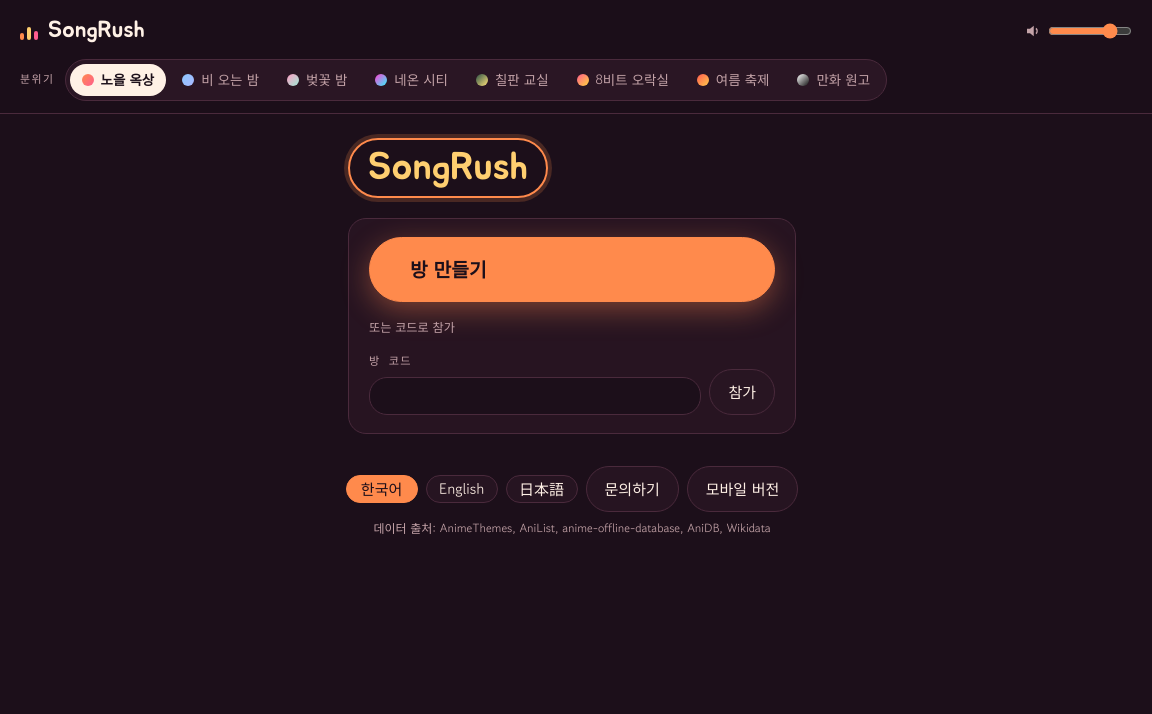
Test case: a late join in a reveal window (2) › shows the card at once, then plays the rest late with the time bar; no skip button
The image size is (1152, 714).
Type "ABCDE" into the field labelled "방 코드" at (535, 396), box [369, 377, 701, 415]
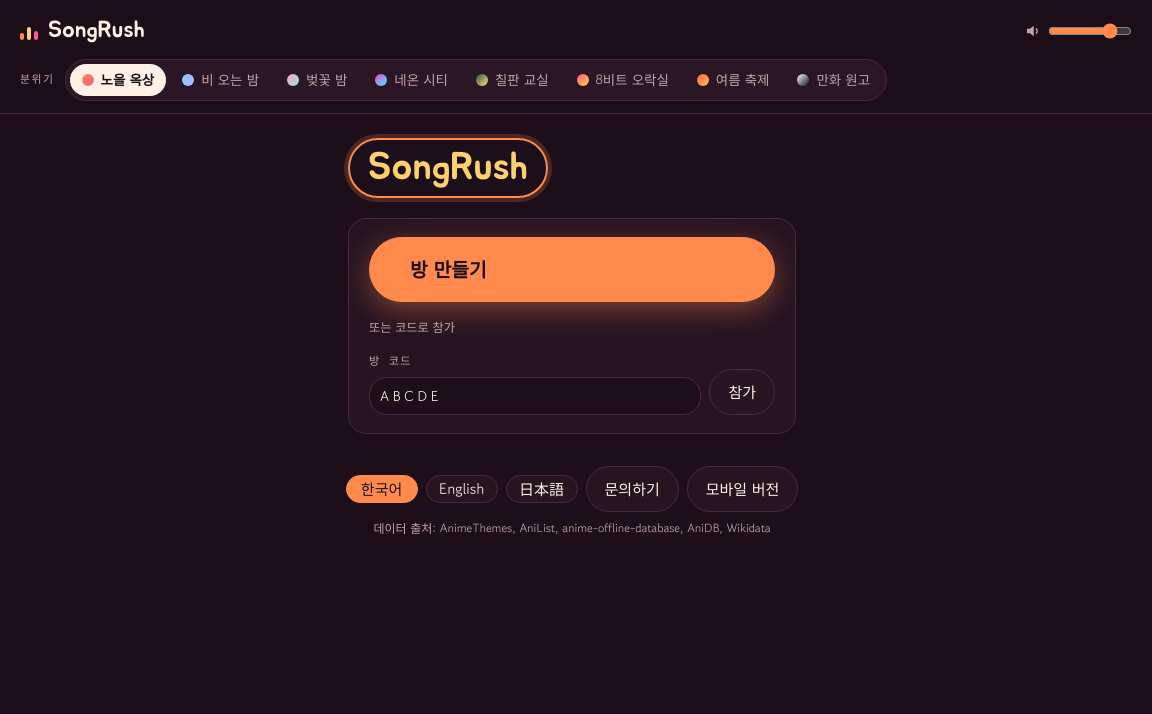
Click the button "참가" at (742, 392), box [709, 369, 775, 415]
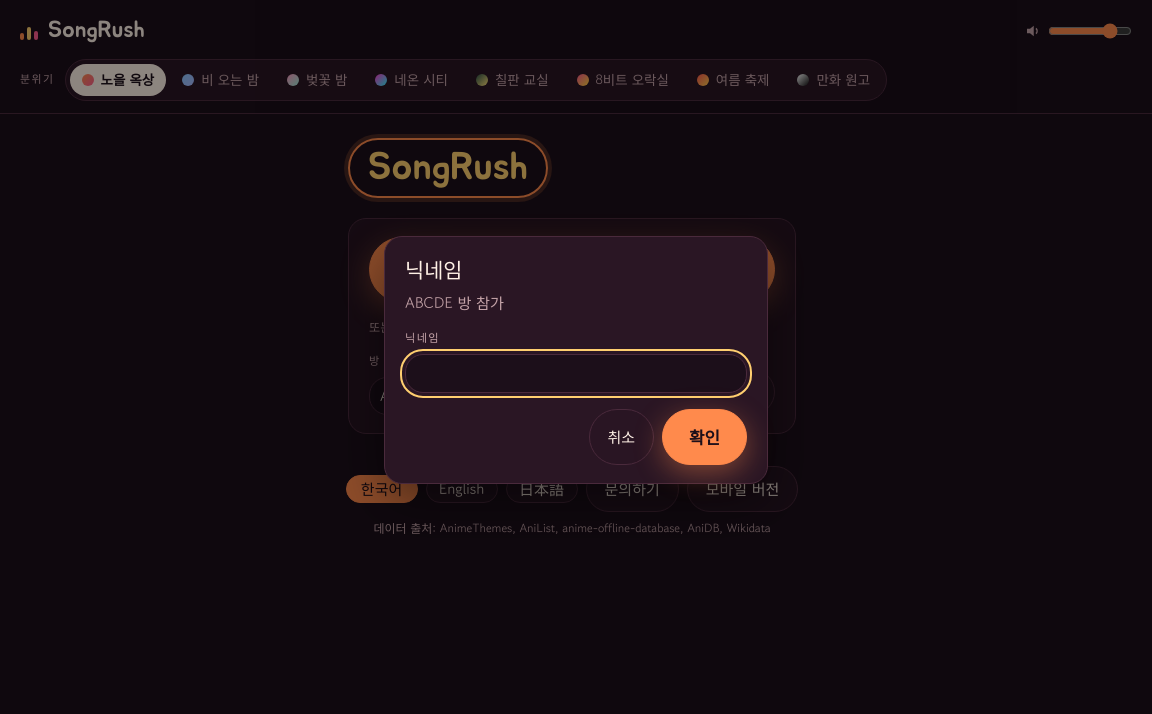
Type "하나" into the field at (576, 373), box [405, 354, 747, 392]
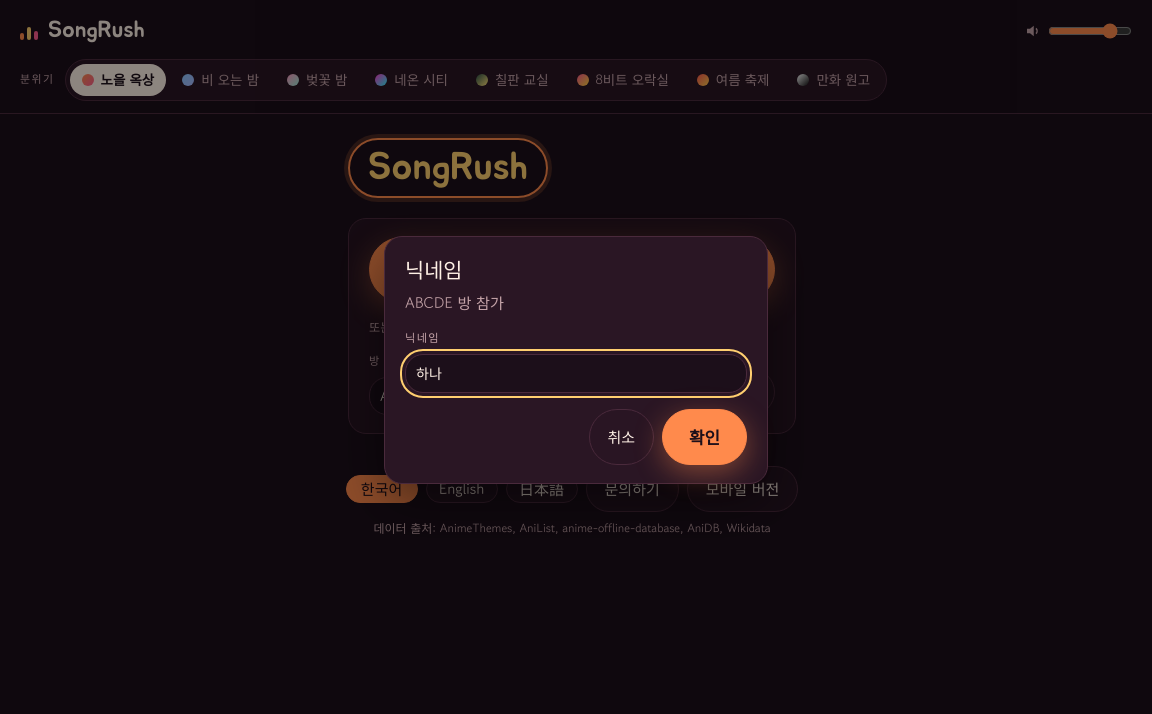
Click the button "확인" at (705, 437), box [662, 409, 747, 466]
Wait 1000 ms
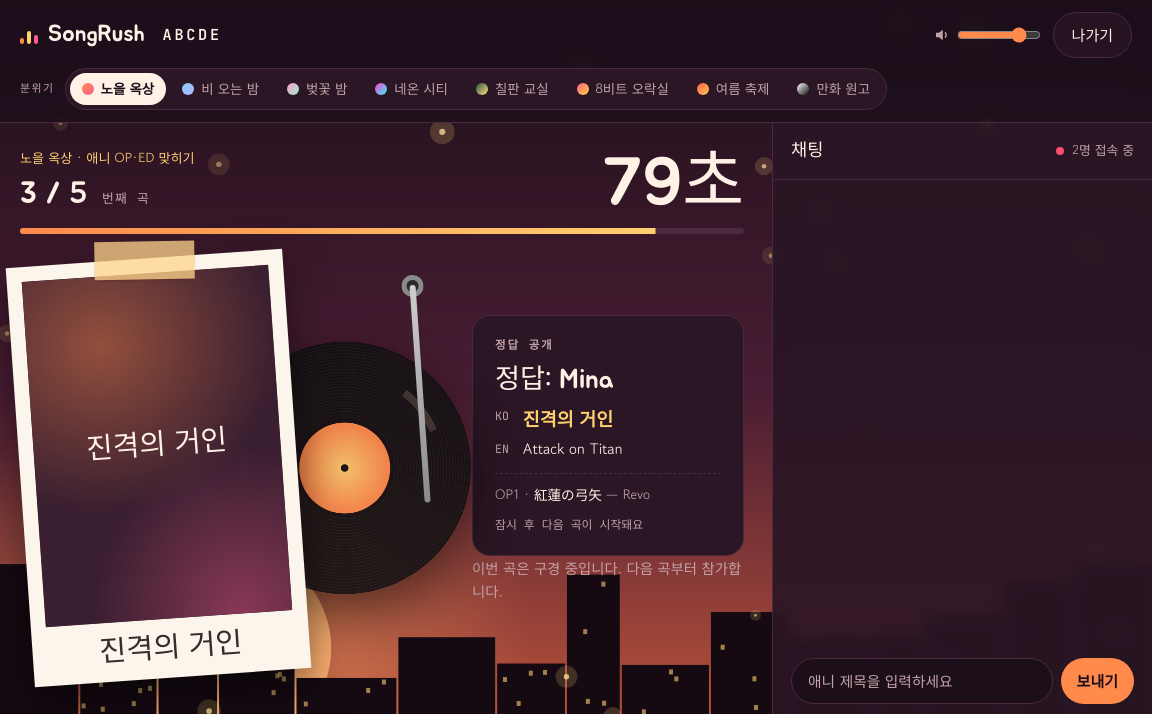
Now the 1st text "진격의 거인" is shown, box [21, 265, 292, 628]
